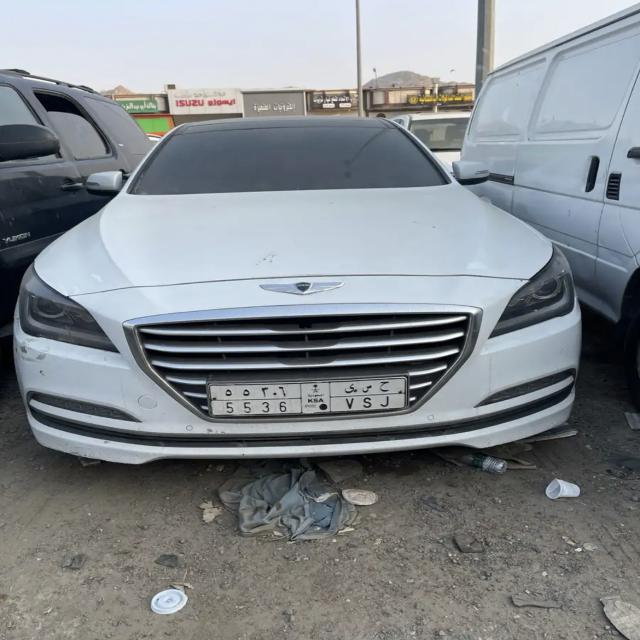license_plate: (206, 378, 408, 416)
